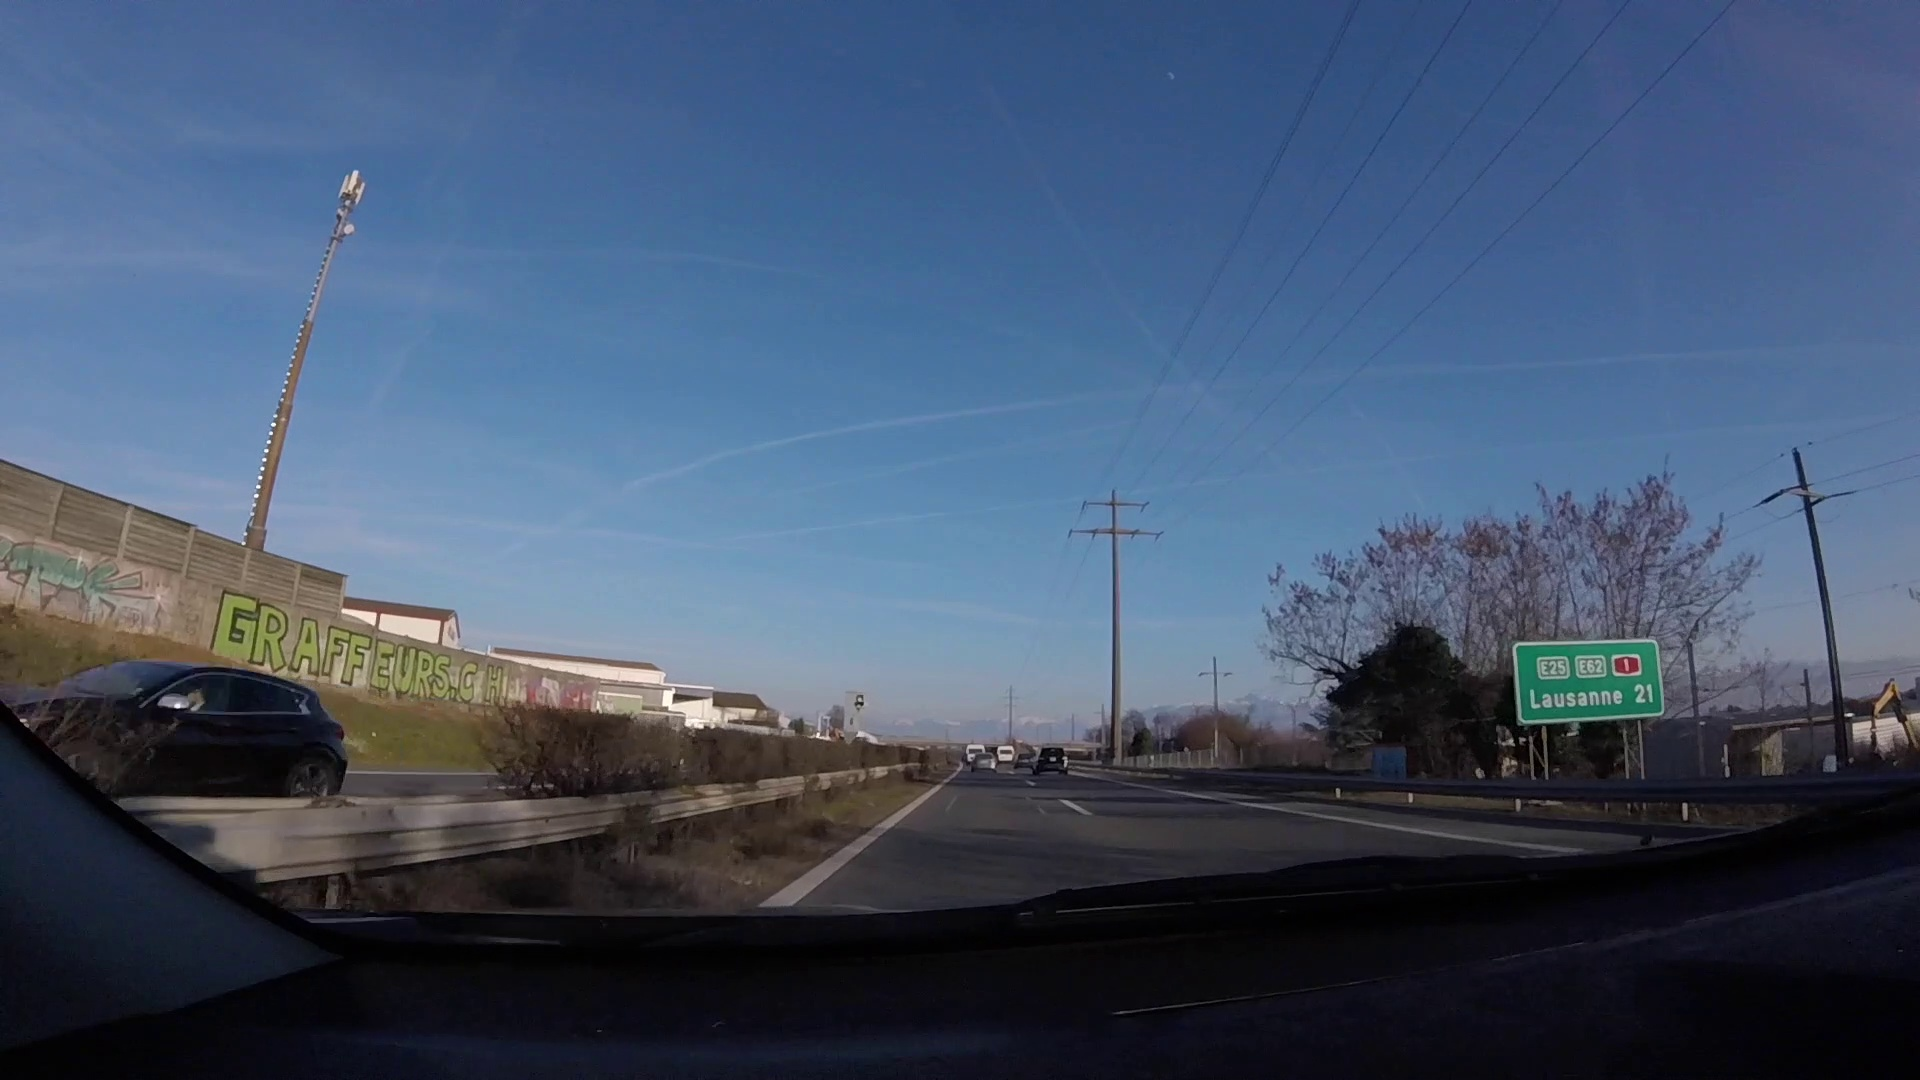radar: (843, 688, 870, 749)
